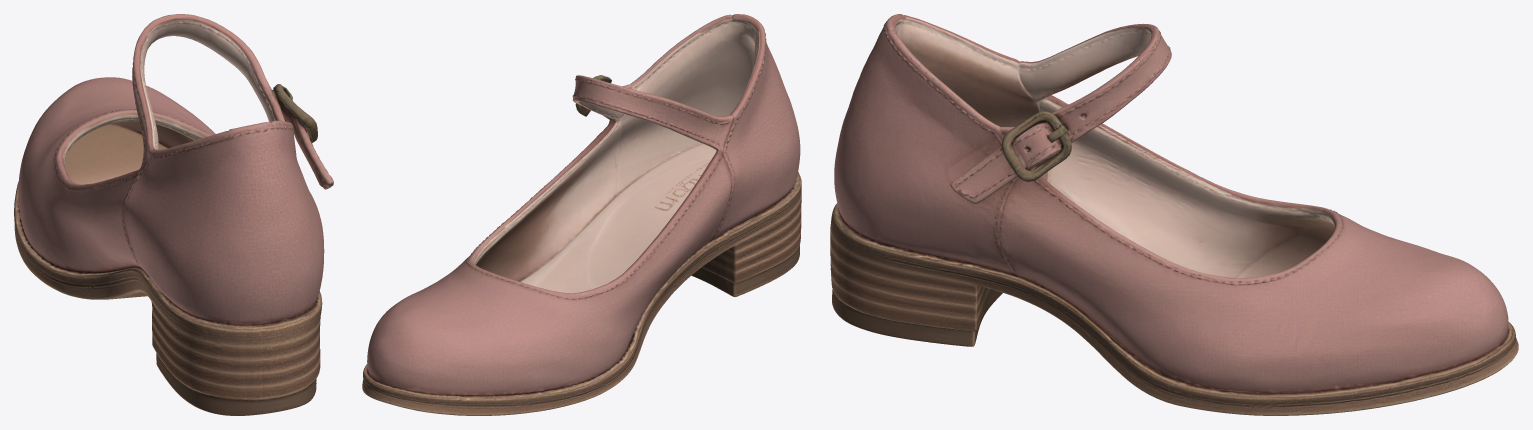
Rendered from maryjane.glb.
3 views of the same model, side by side, from view 1: azimuth 30°, elevation 25°; view 2: azimuth 150°, elevation 25°; view 3: azimuth 270°, elevation 25° (orthographic). The views are drawn at different scales.
Parts seen in each view (by area): view 1: tripo_node_3935dfa7-961d-43bd-ba6f-8f23194baaf9; view 2: tripo_node_3935dfa7-961d-43bd-ba6f-8f23194baaf9; view 3: tripo_node_3935dfa7-961d-43bd-ba6f-8f23194baaf9.
Part boxes in pixels (x1,y1,x2,y2): tripo_node_3935dfa7-961d-43bd-ba6f-8f23194baaf9: (14,14,333,415); tripo_node_3935dfa7-961d-43bd-ba6f-8f23194baaf9: (362,14,801,415); tripo_node_3935dfa7-961d-43bd-ba6f-8f23194baaf9: (830,14,1518,415).
Size of the model in its own units: 0.4448 by 0.4819 by 0.9802.
Materials: 1 (1 with a texture image).
